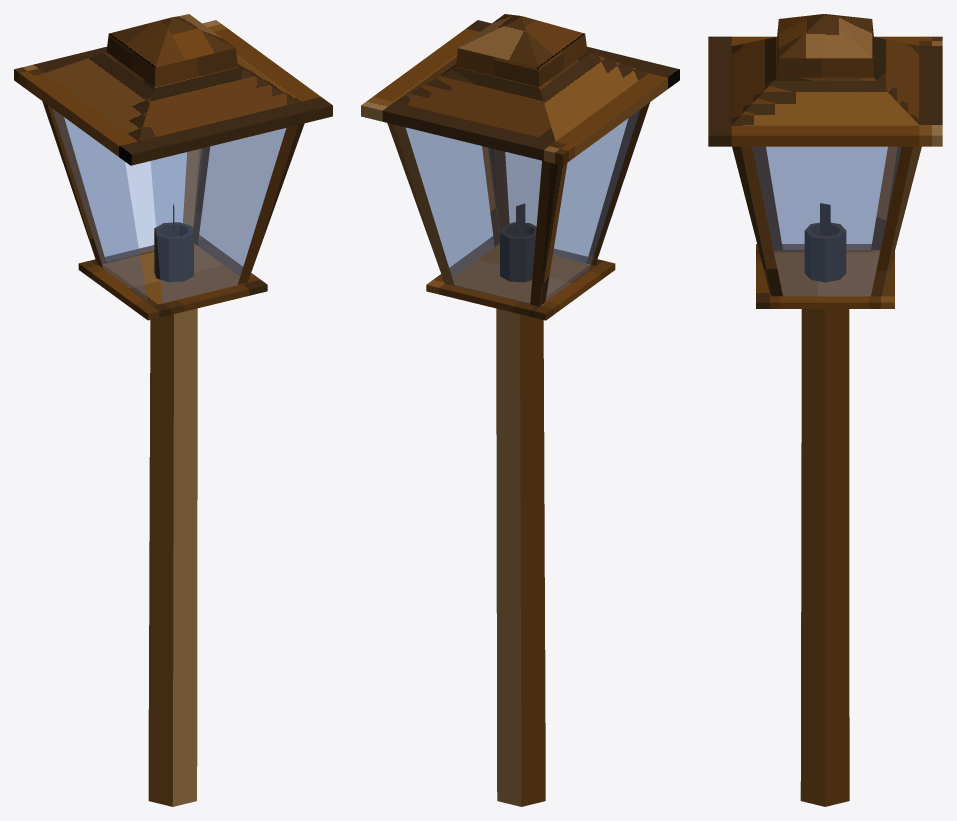
The model's file is lamp_post_889x08.gltf.
3 renders of one model, left to right at view 1: azimuth 30°, elevation 25°; view 2: azimuth 150°, elevation 25°; view 3: azimuth 270°, elevation 25°, orthographic.
Parts seen in each view (by area): view 1: lamp_post_889x08; view 2: lamp_post_889x08; view 3: lamp_post_889x08.
Part boxes in pixels (x1,y1,x2,y2): lamp_post_889x08: [14, 14, 332, 806]; lamp_post_889x08: [361, 14, 679, 806]; lamp_post_889x08: [708, 14, 942, 806].
Bounding box in the file's own units: 2 × 7.35 × 2.
Materials: 2 (1 with a texture image).
